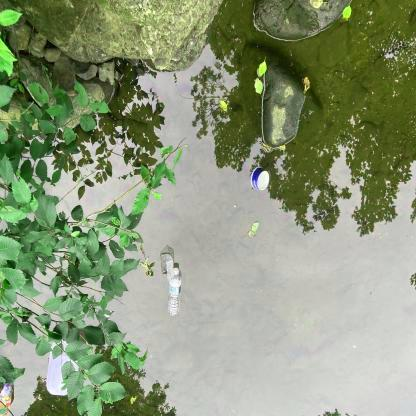Plastic: (43, 334, 82, 398), (160, 252, 186, 318), (0, 378, 14, 416)
Trash: (248, 164, 271, 191)
